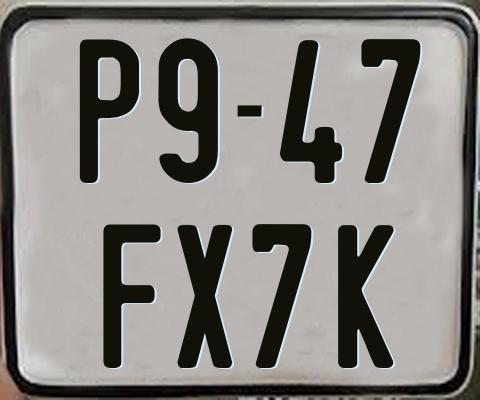4: (278, 37, 346, 182)
7: (251, 221, 315, 366), (358, 36, 417, 183)
9: (155, 35, 219, 181)
F: (103, 221, 166, 368)
K: (337, 225, 399, 371)
P: (80, 37, 141, 182)
X: (176, 222, 236, 368)
